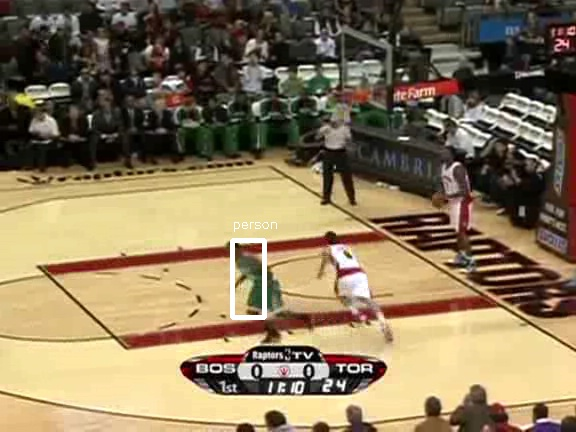person: (242, 243, 276, 324), (241, 243, 275, 324), (243, 243, 277, 324), (242, 242, 276, 323), (242, 244, 276, 325)
target_negative: (73, 173, 376, 364), (274, 98, 557, 173), (420, 42, 576, 109), (563, 177, 573, 358)
